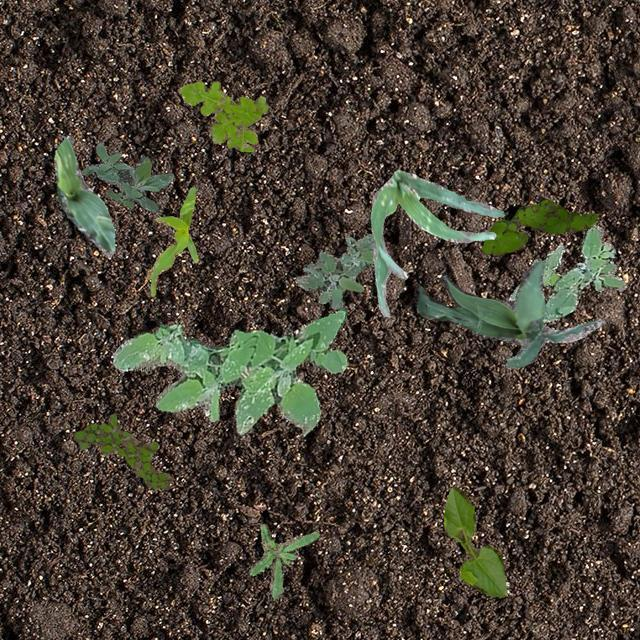crop: (414, 258, 604, 368), (369, 168, 503, 316), (53, 134, 114, 256), (442, 486, 507, 596), (146, 187, 198, 296)
weed: (111, 306, 346, 434), (542, 225, 626, 322), (72, 412, 172, 488), (481, 198, 596, 254), (80, 140, 172, 210), (178, 80, 268, 150), (294, 232, 374, 308), (248, 522, 318, 600), (508, 243, 562, 300)
